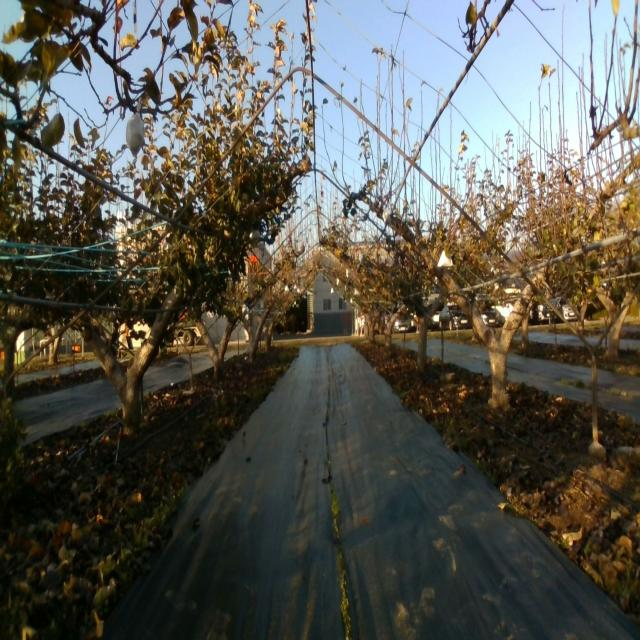pearbags: (126, 102, 144, 157), (438, 250, 453, 268), (382, 208, 392, 226)
